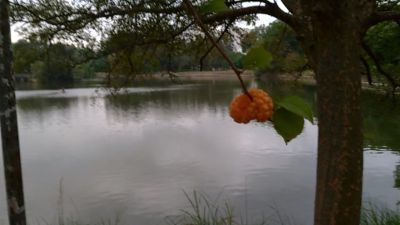eggs: (232, 87, 273, 125)
